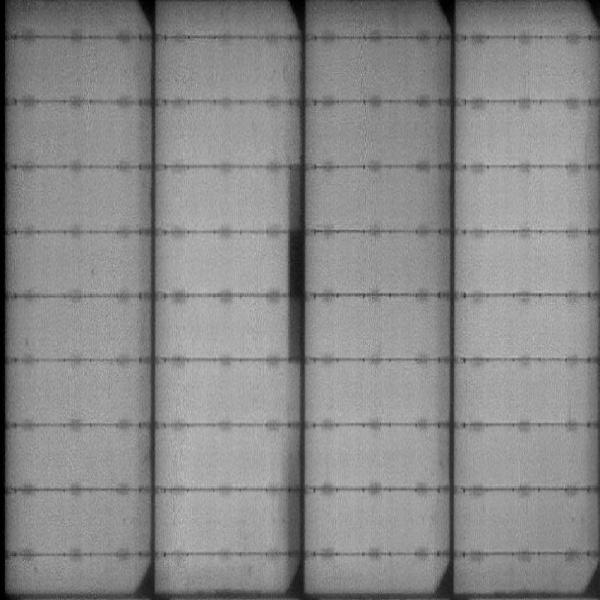black_border: (284, 163, 304, 370)
